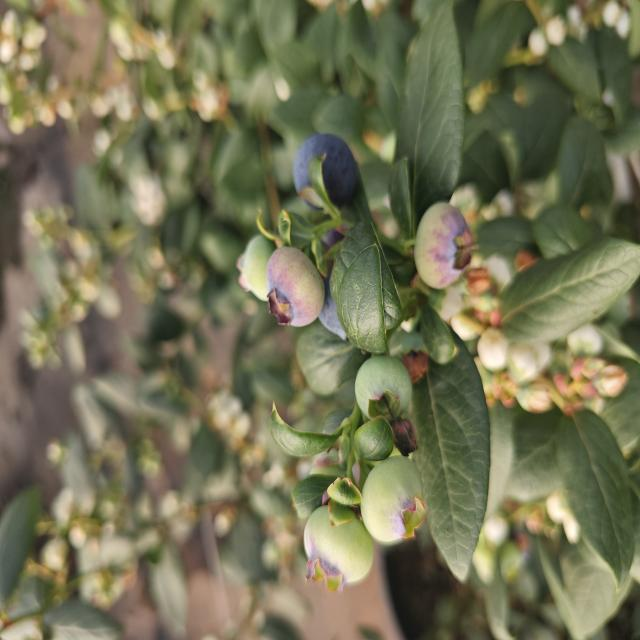ripe: (288, 124, 367, 219)
